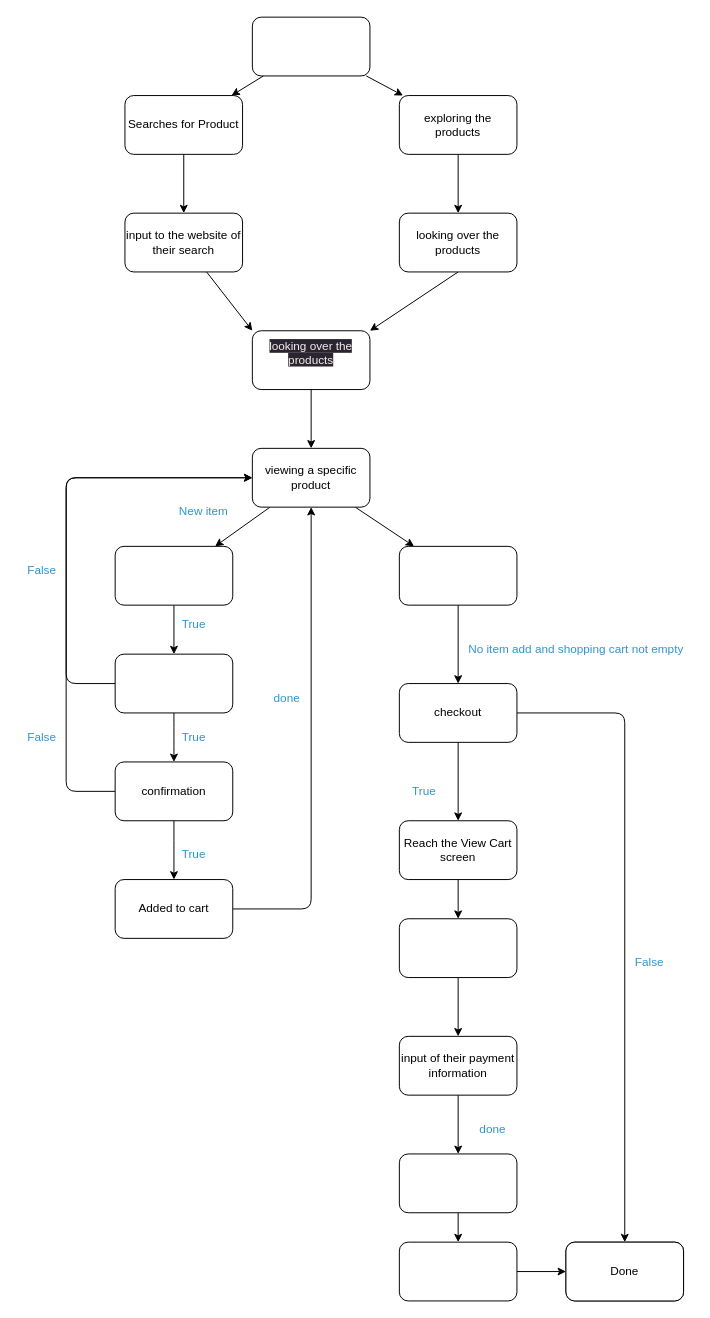
The diagram is 710 pixels wide and 1318 high, and some of its shapes have lost their labels. The box of each missing label's shape, as (x1, y1, x2, y2) in pixels:
Add to cart: (114, 653, 233, 713)
continue shopping: (398, 545, 517, 605)
Email confirm: (398, 1241, 517, 1301)
Enters Website: (251, 16, 370, 76)
order confirmation screen: (398, 1153, 517, 1213)
payment screen: (398, 918, 517, 978)
specific product page: (114, 545, 233, 605)
